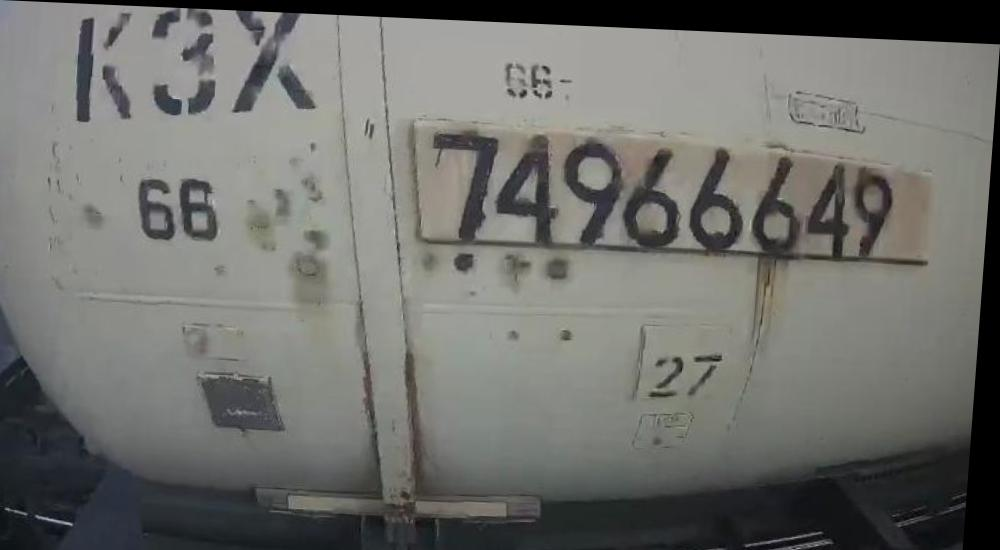Wagon-number: (424, 114, 908, 258)
